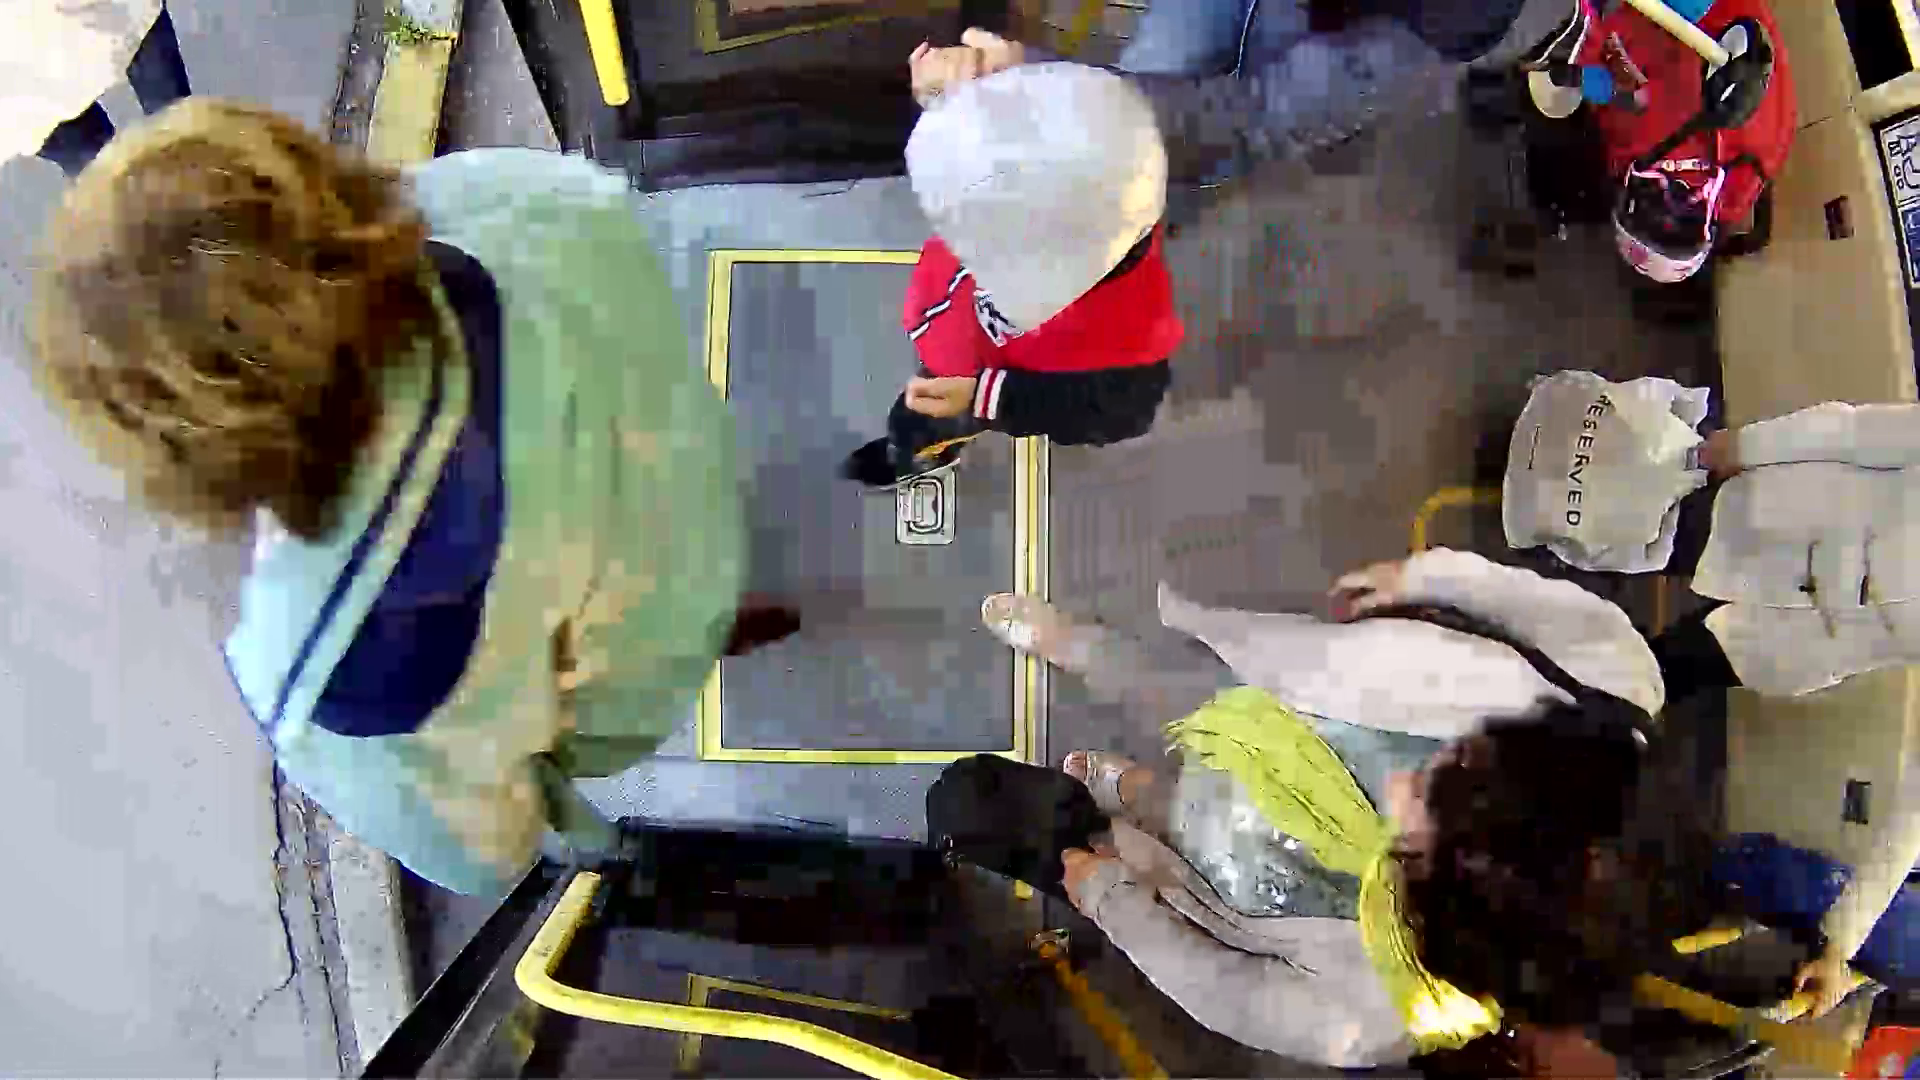person: (38, 73, 759, 838), (1068, 623, 1691, 1033), (800, 28, 1309, 508)
